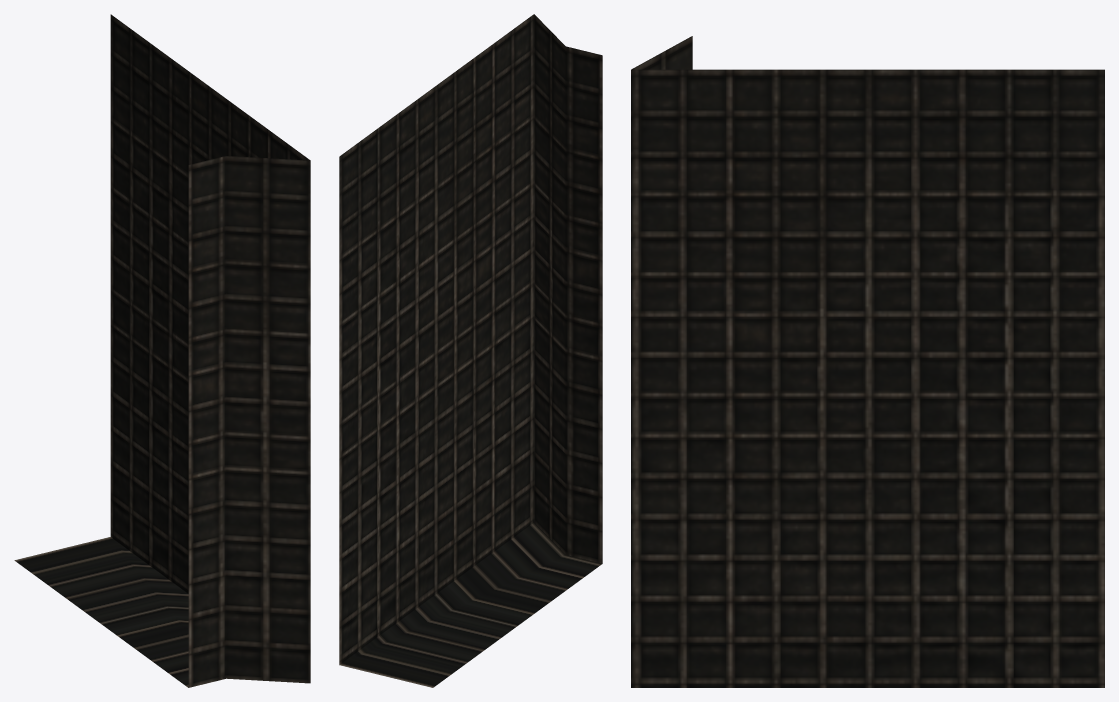
Rendered from Wall_Limit2.fbx.
The picture shows the model from 3 angles, left to right: view 1: azimuth 30°, elevation 25°; view 2: azimuth 150°, elevation 25°; view 3: azimuth 270°, elevation 25°; orthographic projection. The views are drawn at different scales.
Parts seen in each view (by area): view 1: Cube; view 2: Cube; view 3: Cube.
Boxes of the visible parts, x1=… form: Cube: x1=14, y1=14, x2=310, y2=687; Cube: x1=339, y1=14, x2=602, y2=687; Cube: x1=631, y1=36, x2=1104, y2=687.
Size of the model in its own units: 1.26 by 6.54 by 4.54.
